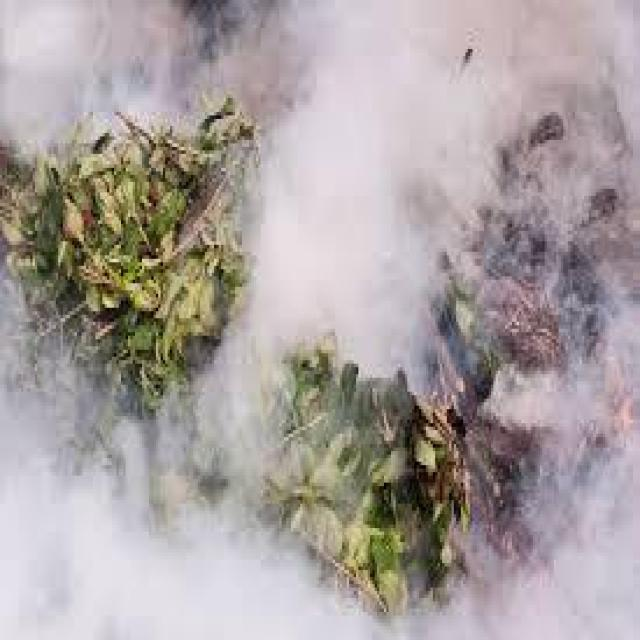Smoke: (0, 0, 640, 629), (0, 289, 84, 640), (0, 0, 191, 154)
